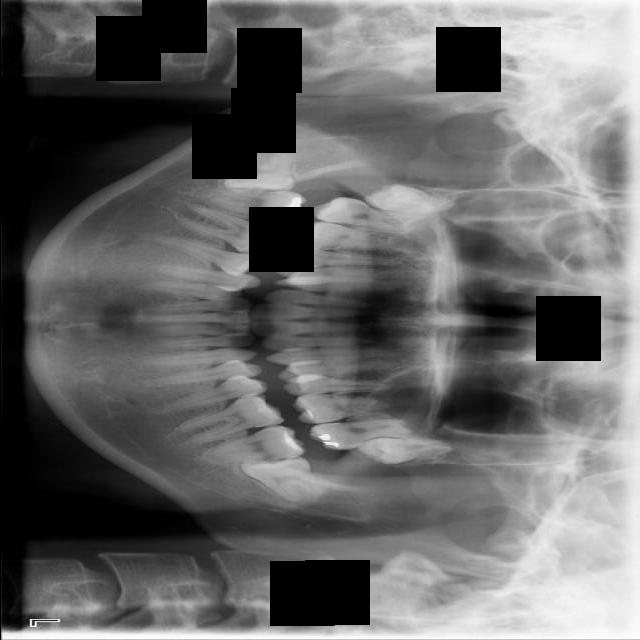3M ESPE Implant: (363, 179, 456, 220)
52: (228, 208, 290, 269), (227, 383, 286, 442), (250, 413, 307, 473), (253, 181, 307, 232), (291, 391, 344, 426), (307, 422, 364, 451), (260, 451, 280, 464)
73: (90, 558, 94, 564)
BioHorizons Implant: (307, 417, 414, 453)
BioLife Implant: (357, 437, 454, 465)
Biomet 3i Implant: (240, 454, 323, 506)
Blue Sky Bio Implant: (203, 422, 307, 467)
Caries: (310, 193, 424, 236)
Implant: (196, 186, 307, 226)
Keystone Dental Implant: (222, 147, 294, 193)
